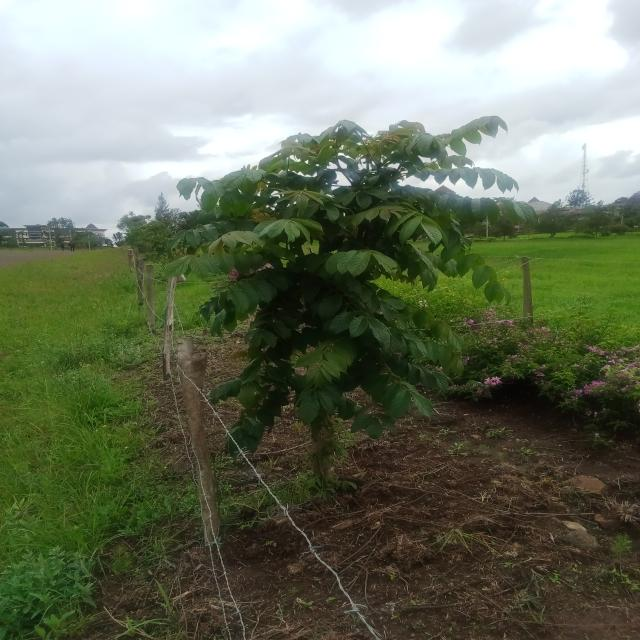Polyscias Kikuyensis: (138, 98, 586, 600)
